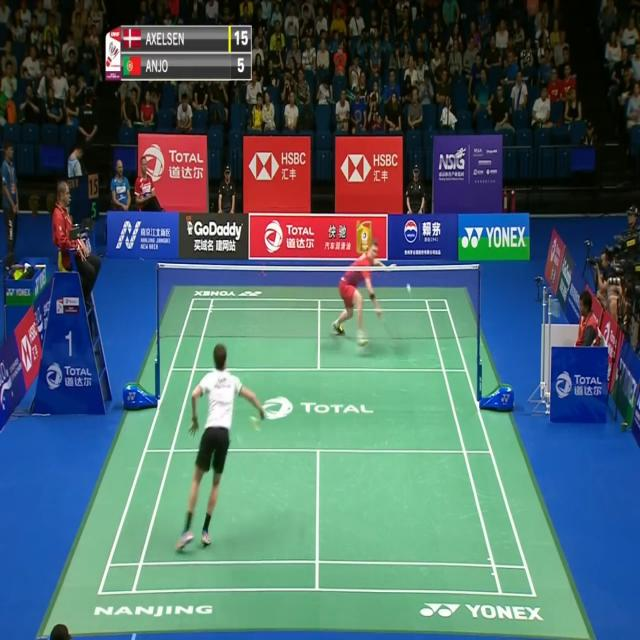Player1: (168, 343, 271, 554)
Player2: (328, 230, 400, 355)
